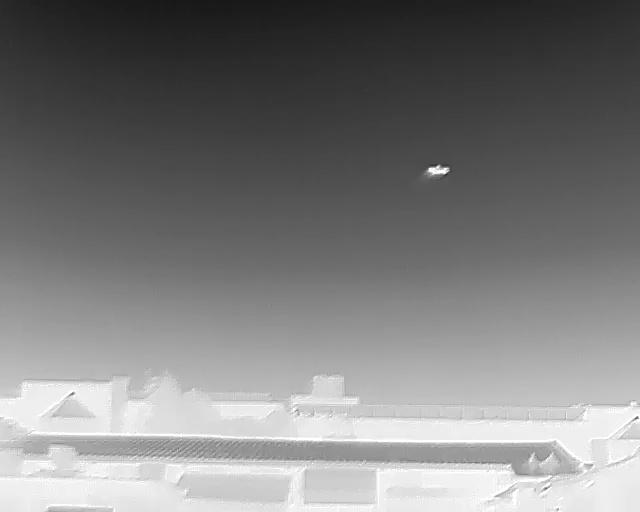fpv-drone: (425, 165, 449, 177)
